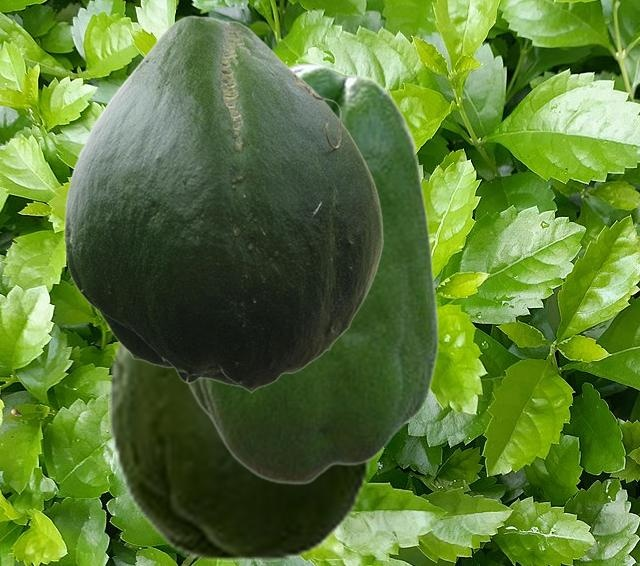sayote: (64, 15, 382, 392), (183, 62, 439, 484), (108, 337, 378, 560)
